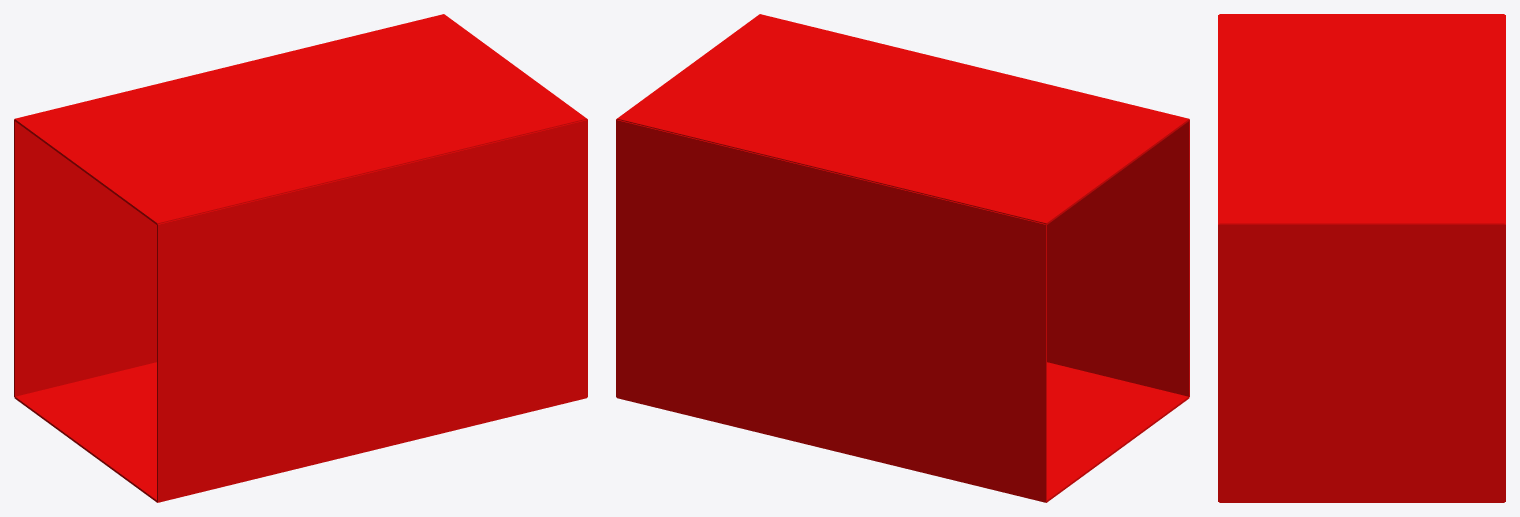
The model's file is cubbyhole_narrow_tall.dae.
3 renders of one model, left to right at view 1: azimuth 30°, elevation 25°; view 2: azimuth 150°, elevation 25°; view 3: azimuth 270°, elevation 25°, orthographic.
Visible parts, largest first — view 1: narrow_tall_cubbyhole (×4); view 2: narrow_tall_cubbyhole (×4); view 3: narrow_tall_cubbyhole (×4).
Boxes of the visible parts, <box> form: narrow_tall_cubbyhole (×4): <box>14,14,587,502</box>; narrow_tall_cubbyhole (×4): <box>616,14,1189,502</box>; narrow_tall_cubbyhole (×4): <box>1218,14,1505,502</box>.
Size of the model in its own units: 0.4328 by 0.2508 by 0.2696.
